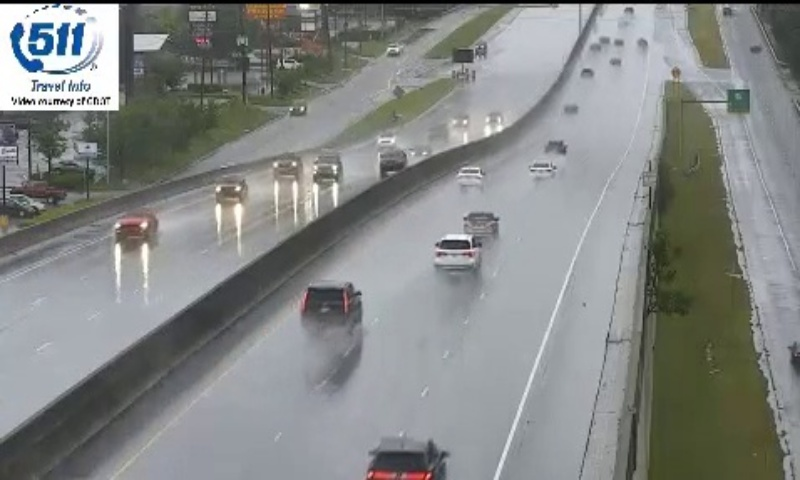car: (368, 440, 448, 480), (299, 283, 359, 325), (433, 232, 480, 270), (463, 211, 497, 238), (456, 165, 485, 190), (528, 160, 557, 179)
